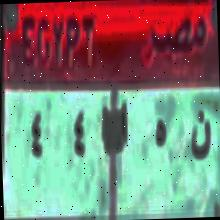4: (72, 108, 90, 166), (30, 104, 44, 160)
alif: (117, 92, 133, 147)
haa: (148, 105, 172, 160)
noon: (188, 109, 214, 172)
